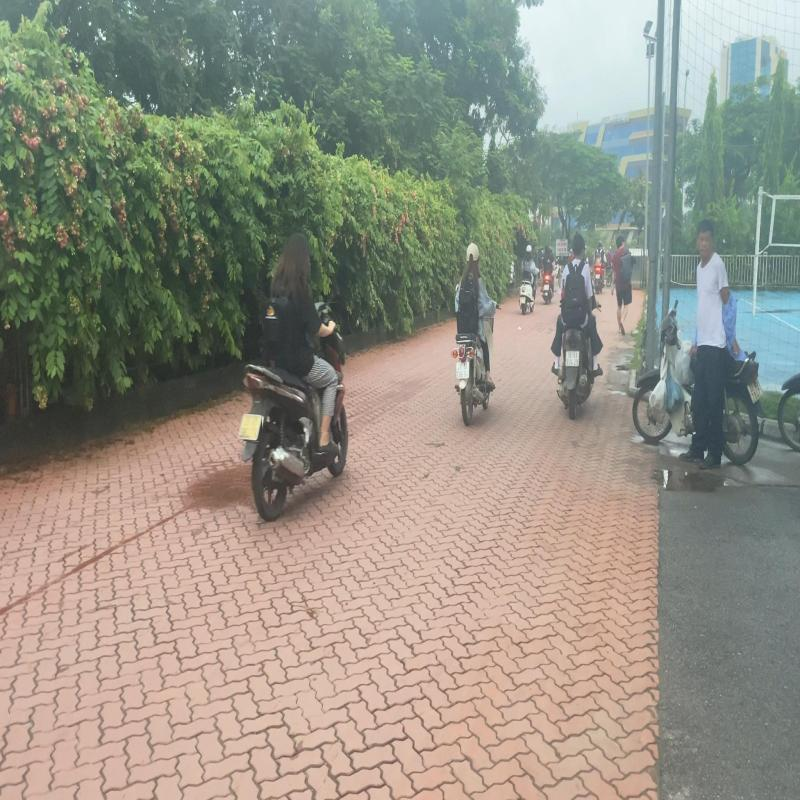licenseplate: (238, 413, 262, 441)
motorcyclist: (235, 227, 348, 523)
nohelmet: (288, 231, 311, 276)
